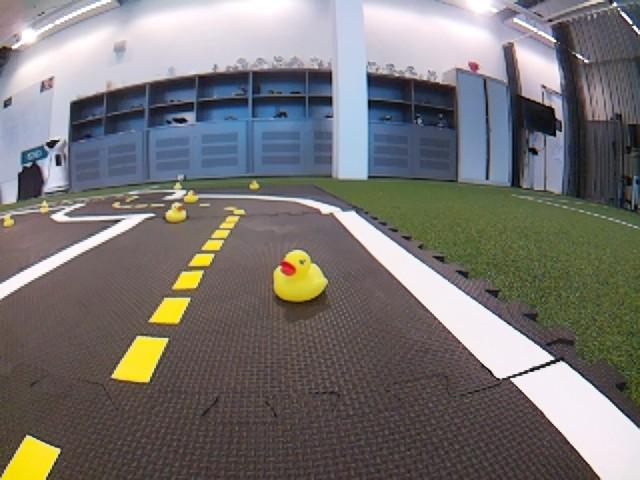Duckies: (274, 250, 328, 304), (165, 202, 187, 223), (184, 190, 199, 202), (4, 215, 15, 227), (38, 205, 50, 213), (249, 180, 259, 189), (174, 182, 182, 188), (41, 202, 49, 208)
